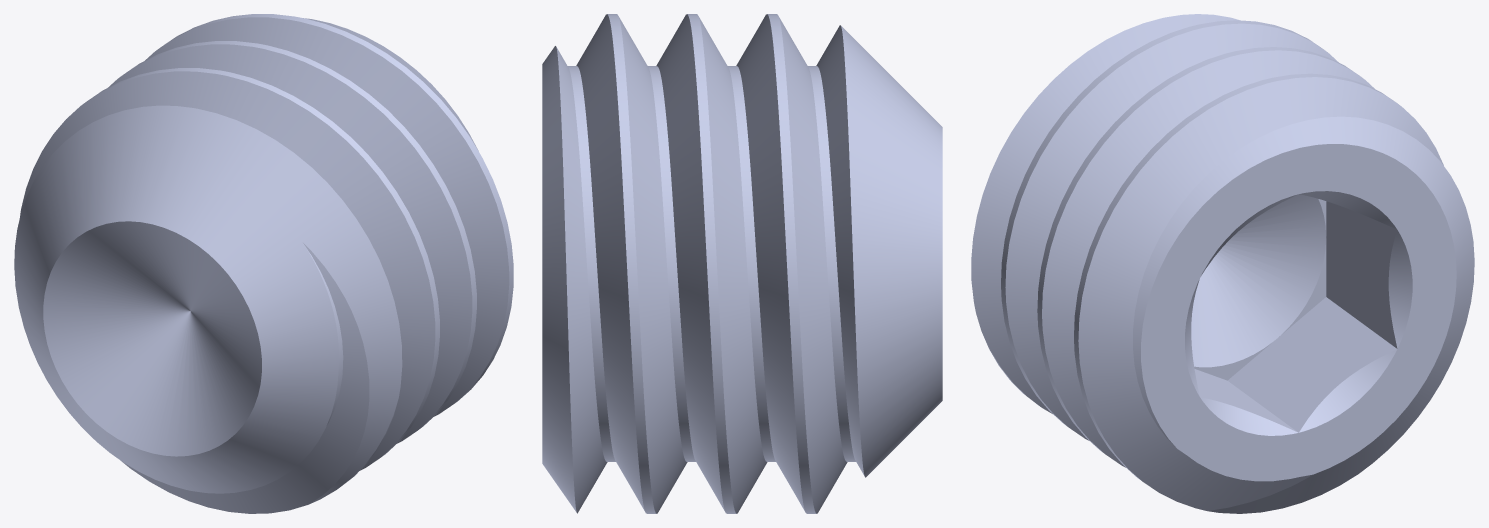
The model's file is _2920_0001_4008_assembly_STEP_1_2806_0005_0004_91390A117_STEP_2_solid1.obj.
The picture shows the model from 3 angles, left to right: view 1: azimuth 30°, elevation 25°; view 2: azimuth 150°, elevation 25°; view 3: azimuth 270°, elevation 25°; orthographic projection. The views are drawn at different scales.
Visible parts, largest first — view 1: mesh28447, mesh28451, mesh28453, mesh28452, mesh28454, mesh28444, mesh28446, mesh28442, mesh28438; view 2: mesh28447, mesh28450, mesh28452, mesh28438, mesh28439, mesh28443, mesh28449, mesh28445, mesh28451; view 3: mesh28450, mesh28436, mesh28426, mesh28439, mesh28429, mesh28433, mesh28437, mesh28419, mesh28442, mesh28444, mesh28446, mesh28430 (+9 smaller).
Part boxes in pixels (box(x1,y1,x2,y2)): mesh28447: box(20, 17, 509, 513); mesh28451: box(153, 109, 402, 504); mesh28453: box(43, 221, 190, 453); mesh28452: box(14, 105, 197, 489); mesh28454: box(152, 224, 261, 456); mesh28444: box(263, 45, 476, 429); mesh28446: box(227, 72, 439, 455); mesh28442: box(300, 18, 513, 402); mesh28438: box(305, 246, 343, 425); mesh28447: box(556, 16, 847, 513); mesh28450: box(576, 14, 864, 511); mesh28452: box(844, 51, 942, 477); mesh28438: box(568, 66, 855, 461); mesh28439: box(542, 62, 576, 512); mesh28443: box(612, 37, 656, 513); mesh28449: box(772, 37, 816, 513); mesh28445: box(692, 37, 736, 513); mesh28451: box(841, 26, 942, 139); mesh28450: box(971, 14, 1443, 510); mesh28436: box(1141, 144, 1456, 481); mesh28426: box(1191, 237, 1326, 367); mesh28439: box(1283, 116, 1474, 508); mesh28429: box(1227, 297, 1396, 432); mesh28433: box(1326, 201, 1397, 348); mesh28437: box(1133, 124, 1298, 446); mesh28419: box(1232, 194, 1326, 237); mesh28442: box(1074, 80, 1266, 480); mesh28444: box(1037, 53, 1229, 452); mesh28446: box(1001, 27, 1193, 425); mesh28430: box(1299, 349, 1396, 432).
Bounding box in the file's own units: 0.00515 × 0.005 × 0.00552.
